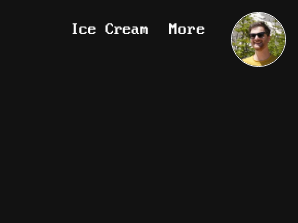
LinksAndMenu › should open the social links from More and the avatar
The image size is (298, 223).
Click the button "More": point(188, 28) x1=169 y1=12 x2=206 y2=45
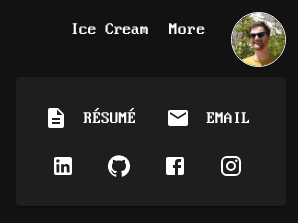
Result: the text "Résumé" is shown at x1=84 y1=109 x2=136 y2=126
Click the picture with alt text "Max Rosoff": point(258, 40) x1=232 y1=13 x2=285 y2=66
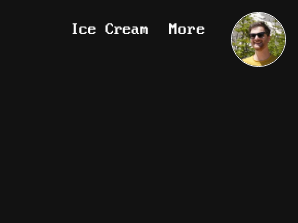
Result: the link "Résumé" is gone
